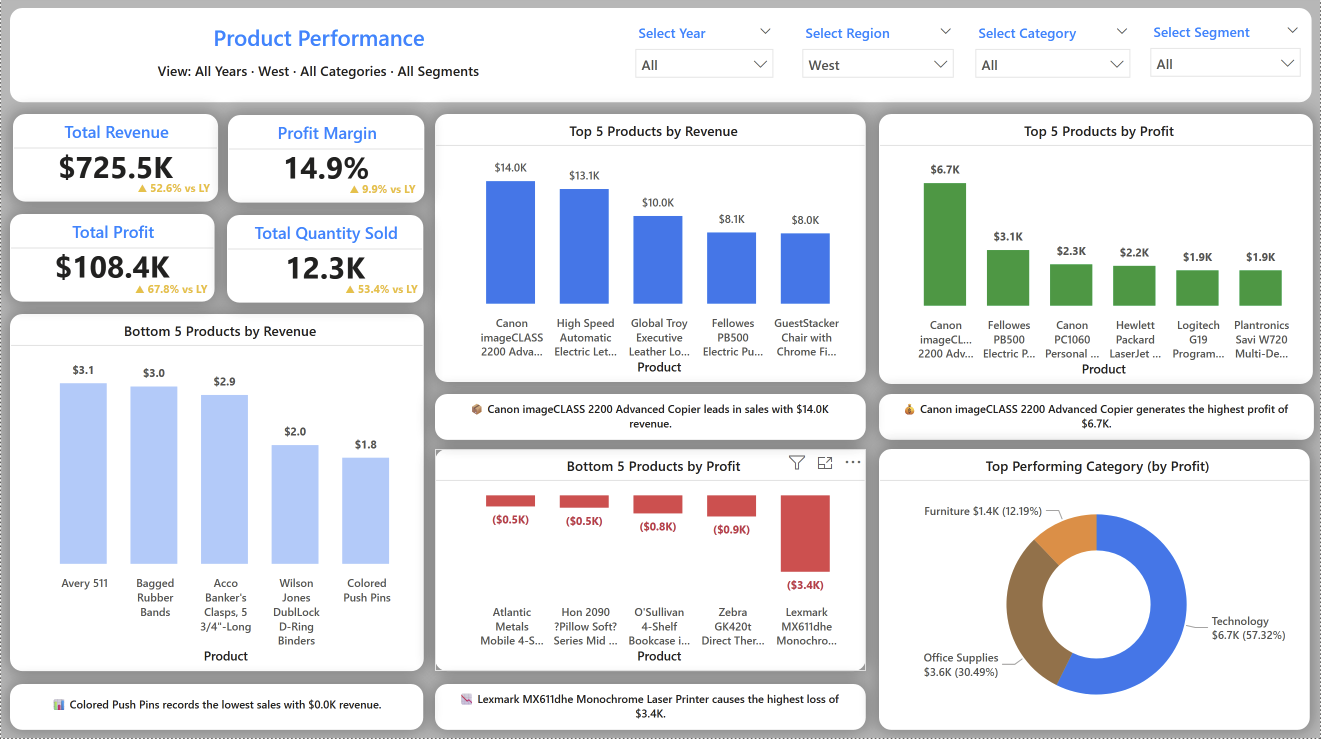

The page's visual inventory and layout, read from the dashboard file:
{"tool":"powerbi","page":{"name":"Product Performance","canvas":[1280,720],"ordinal":2},"visuals":[{"type":"group","id":"g1","title":"Group 3","box":[8.7,11.7,1263.2,91.3],"z":0},{"type":"shape","box":[8.7,11.7,1263.2,91.3],"z":0,"group":"g1"},{"type":"card","title":"Total Revenue","fields":{"Values":["_measures.Context Banner"]},"box":[61.3,57.6,493.6,35],"z":0,"group":"g6"},{"type":"card","title":"Total Revenue","fields":{"Values":["_measures.Total Sales"]},"box":[11.6,114.5,198.9,85.2],"z":0,"group":"g2"},{"type":"card","title":"Profit Margin","fields":{"Values":["_measures.Profit Margin"]},"box":[220.3,115.5,190.5,84.9],"z":0,"group":"g4"},{"type":"card","title":"Total Profit","fields":{"Values":["_measures.Total Profit"]},"box":[8.7,211.5,198.3,84.9],"z":0,"group":"g3"},{"type":"card","title":"Total Quantity Sold","fields":{"Values":["_measures.Total Quantity"]},"box":[219.3,212.5,190.5,84.9],"z":0,"group":"g5"},{"type":"columnChart","title":"Top 5 Products by Revenue","fields":{"Category":["Products.Product_Name"],"Y":["_measures.Total Sales"]},"box":[421.1,114.5,418.2,260.1],"z":1000},{"type":"columnChart","title":"Top 5 Products by Profit","fields":{"Category":["Products.Product_Name"],"Y":["_measures.Total Profit"]},"box":[852,114.5,421.1,262],"z":2000},{"type":"columnChart","title":"Bottom 5 Products by Revenue","fields":{"Category":["Products.Product_Name"],"Y":["_measures.Total Sales"]},"box":[8.7,308.6,401.7,346.4],"z":3000},{"type":"columnChart","title":"Bottom 5 Products by Profit","fields":{"Category":["Products.Product_Name"],"Y":["_measures.Total Profit"]},"box":[421.1,439.6,418.2,215.4],"z":4000},{"type":"textbox","box":[11.6,20.4,593.7,43.7],"z":5000,"group":"g1"},{"type":"card","title":"Total Revenue","fields":{"Values":["_measures.TopProfitProductInsight"]},"box":[852,386.2,422.1,44.6],"z":5000},{"type":"card","title":"vs. LY","fields":{"Values":["_measures.Sales YoY Label"]},"box":[123.6,172.8,89.1,32.1],"z":5002,"group":"g2"},{"type":"card","title":"vs. LY","fields":{"Values":["_measures.Profit Margin YoY Label"]},"box":[330,174.4,80.8,30.2],"z":5002,"group":"g4"},{"type":"card","title":"vs. LY","fields":{"Values":["_measures.Profit YoY Label"]},"box":[122.9,271.4,84.1,30.2],"z":5002,"group":"g3"},{"type":"card","title":"vs. LY","fields":{"Values":["_measures.Quantity YoY Label"]},"box":[329,271.4,80.8,30.2],"z":5002,"group":"g5"},{"type":"slicer","fields":{"Values":["Date.Year"]},"box":[605.1,21.5,154.2,72.8],"z":6000,"group":"g1"},{"type":"card","title":"Total Revenue","fields":{"Values":["_measures.TopRevenueProductInsight"]},"box":[421.1,386.2,418.2,44.6],"z":6000},{"type":"slicer","fields":{"Values":["Location.Region"]},"box":[768,21.5,167.1,72.8],"z":7000,"group":"g1"},{"type":"card","title":"Total Revenue","fields":{"Values":["_measures.LowestProfitProductInsight"]},"box":[421.1,667.6,418.2,44.6],"z":7000},{"type":"slicer","fields":{"Values":["Products.Category"]},"box":[935.1,21.5,170.3,72.8],"z":8000,"group":"g1"},{"type":"card","title":"Total Revenue","fields":{"Values":["_measures.LowestRevenueProductInsight"]},"box":[8.7,667.6,400.8,44.6],"z":8000},{"type":"slicer","fields":{"Values":["Orders.Segment"]},"box":[1105.4,20.4,166,71.8],"z":9000,"group":"g1"},{"type":"group","id":"g2","title":"Group 1","box":[11.6,114.5,200.9,90.2],"z":9000},{"type":"group","id":"g3","title":"Group 1","box":[8.7,211.5,198.9,90.2],"z":10000},{"type":"group","id":"g4","title":"Group 1","box":[220.3,115.5,190.2,89.3],"z":11000},{"type":"group","id":"g5","title":"Group 1","box":[219.3,212.5,191.2,89.3],"z":12000},{"type":"group","id":"g6","title":"Group 1","box":[61.3,57.6,493.9,34.9],"z":13000,"group":"g1"},{"type":"donutChart","title":"Top Performing Category (by Profit)","fields":{"Category":["Products.Category"],"Y":["_measures.Total Profit"]},"box":[852,439.6,418.2,272.7],"z":13000}]}

Visuals, with their boxes in screenshot pixels (x1, y1, x2, y2), scaled from the page's 1280x720 canvas onto the 1321x739 screenshot:
"Group 3" group: (9,12,1313,106)
shape: (9,12,1313,106)
"Total Revenue" card: (63,59,573,95)
"Total Revenue" card: (12,118,217,205)
"Profit Margin" card: (227,119,424,206)
"Total Profit" card: (9,217,214,304)
"Total Quantity Sold" card: (226,218,423,305)
"Top 5 Products by Revenue" columnChart: (435,118,866,384)
"Top 5 Products by Profit" columnChart: (879,118,1314,386)
"Bottom 5 Products by Revenue" columnChart: (9,317,424,672)
"Bottom 5 Products by Profit" columnChart: (435,451,866,672)
textbox: (12,21,625,66)
"Total Revenue" card: (879,396,1315,442)
"vs. LY" card: (128,177,220,210)
"vs. LY" card: (341,179,424,210)
"vs. LY" card: (127,279,214,310)
"vs. LY" card: (340,279,423,310)
slicer - Date.Year: (624,22,784,97)
"Total Revenue" card: (435,396,866,442)
slicer - Location.Region: (793,22,965,97)
"Total Revenue" card: (435,685,866,731)
slicer - Products.Category: (965,22,1141,97)
"Total Revenue" card: (9,685,423,731)
slicer - Orders.Segment: (1141,21,1312,95)
"Group 1" group: (12,118,219,210)
"Group 1" group: (9,217,214,310)
"Group 1" group: (227,119,424,210)
"Group 1" group: (226,218,424,310)
"Group 1" group: (63,59,573,95)
"Top Performing Category (by Profit)" donutChart: (879,451,1311,731)
